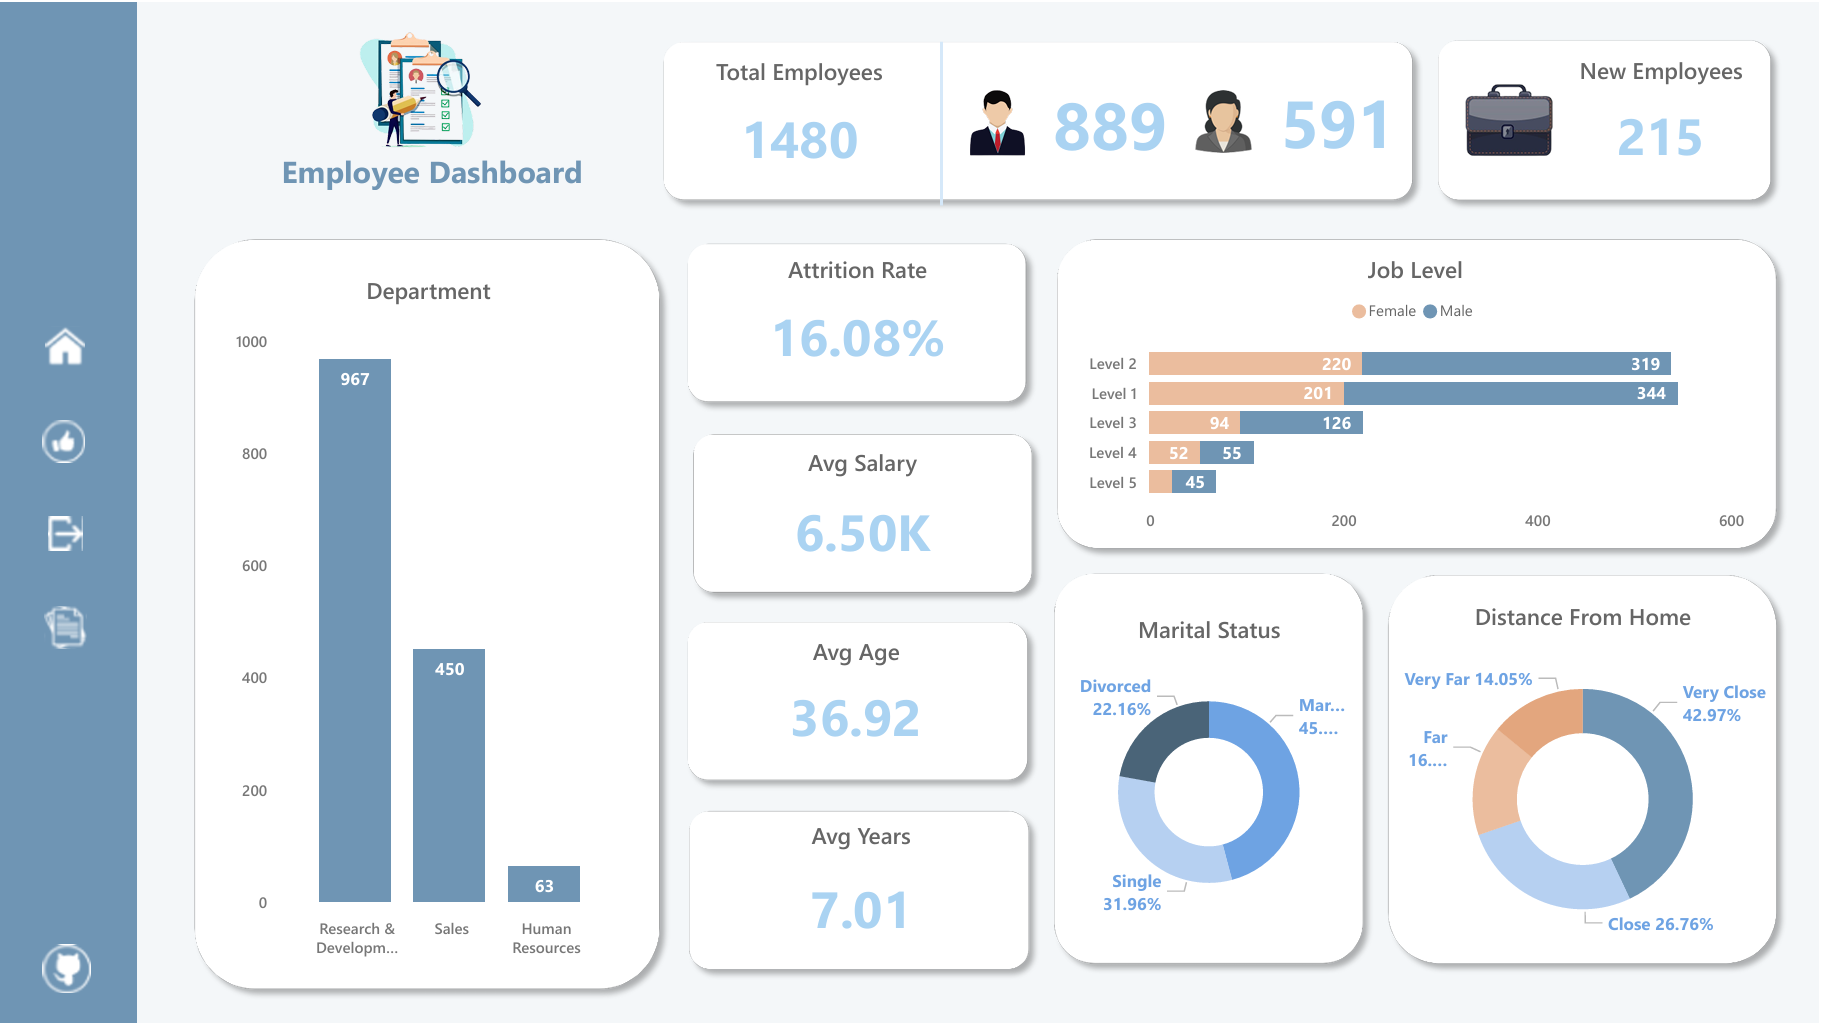

Layout of this report page (visuals, bound fields, positions):
{"tool":"powerbi","page":{"name":"Home","canvas":[1280,720],"ordinal":0},"visuals":[{"type":"shape","box":[968,394,291,291],"z":0},{"type":"shape","box":[476.2,560,256.2,128.8],"z":1000},{"type":"shape","box":[735,157.5,524.2,235.8],"z":2000},{"type":"shape","box":[458,19,545,129],"z":3000},{"type":"shape","box":[733.3,393.3,235,291.7],"z":4000},{"type":"card","title":"Total Employees","fields":{"Values":["All Measure.Total Emp"]},"box":[474,38,177,94],"z":5000},{"type":"card","fields":{"Values":["All Measure.Female"]},"box":[851,24,181,119],"z":6000},{"type":"card","fields":{"Values":["All Measure.Male"]},"box":[702,26,158,117],"z":7000},{"type":"image","box":[667,53,69,62],"z":8000},{"type":"shape","box":[474.9,160.7,256.6,129],"z":9000},{"type":"image","box":[831,57,59,54],"z":10000},{"type":"shape","box":[623,28,79,115],"z":11000},{"type":"shape","box":[1003,18,252,130],"z":12000},{"type":"card","title":"Attrition Rate","fields":{"Values":["All Measure.% attrition"]},"box":[487.1,177.1,232.9,94.3],"z":13000},{"type":"card","title":"New Employees","fields":{"Values":["All Measure.New Employee"]},"box":[1099,37,140,91],"z":14000},{"type":"shape","box":[0,0,95.7,720],"z":15000},{"type":"shape","box":[128.3,158.3,345,545],"z":16000},{"type":"columnChart","title":"Department","fields":{"Category":["HR_Analytics.Department"],"Y":["All Measure.Total Emp"]},"box":[160,191.7,283.3,488.3],"z":17000},{"type":"shape","box":[478.9,295.3,256.6,129],"z":18000},{"type":"shape","box":[475.2,427,256.6,129],"z":19000},{"type":"card","title":"Avg Salary","fields":{"Values":["Avg(HR_Analytics.MonthlyIncome)"]},"box":[496.2,312.5,221.2,96.2],"z":20000},{"type":"card","title":"Avg Age","fields":{"Values":["Avg(HR_Analytics.Age)"]},"box":[503,446.2,199,90.6],"z":21000},{"type":"donutChart","title":"Marital Status","fields":{"Category":["HR_Analytics.MaritalStatus"],"Y":["All Measure.Total Emp"]},"box":[745,430,211.7,229.2],"z":22000},{"type":"barChart","title":"Job Level","fields":{"Category":["HR_Analytics.Job Level Status"],"Y":["All Measure.Female","All Measure.Male"]},"box":[760,176.7,471.7,205],"z":23000},{"type":"card","title":"Avg Years","fields":{"Values":["Avg(HR_Analytics.YearsAtCompany)"]},"box":[503.8,575,203.8,102.5],"z":24000},{"type":"donutChart","title":"Distance From Home","fields":{"Category":["HR_Analytics.Distance Status"],"Y":["All Measure.Total Emp"]},"box":[977,421,274,257],"z":25000},{"type":"image","box":[1006,44,112,78],"z":26000},{"type":"textbox","title":"Employee Dashboard","box":[188.6,104.3,230,37.1],"z":27000},{"type":"image","box":[233,0,123,125],"z":28000},{"type":"actionButton","box":[27.8,224.4,43.3,35.6],"z":29000},{"type":"actionButton","box":[30,355,31.7,38.3],"z":30000},{"type":"actionButton","box":[25.6,290,43.3,37.8],"z":31000},{"type":"actionButton","box":[26.7,421.1,44.4,37.8],"z":32000},{"type":"actionButton","box":[25.7,658.6,48.6,42.9],"z":33001}]}

Visuals, with their boxes on the page's 1280x720 design canvas (x1, y1, x2, y2). These are canvas units, not pixel positions in the 1824x1023 screenshot, which may show the page scaled, cropped or inside an application window:
shape: <bbox>968, 394, 1259, 685</bbox>
shape: <bbox>476, 560, 732, 689</bbox>
shape: <bbox>735, 158, 1259, 393</bbox>
shape: <bbox>458, 19, 1003, 148</bbox>
shape: <bbox>733, 393, 968, 685</bbox>
"Total Employees" card: <bbox>474, 38, 651, 132</bbox>
card - All Measure.Female: <bbox>851, 24, 1032, 143</bbox>
card - All Measure.Male: <bbox>702, 26, 860, 143</bbox>
image: <bbox>667, 53, 736, 115</bbox>
shape: <bbox>475, 161, 732, 290</bbox>
image: <bbox>831, 57, 890, 111</bbox>
shape: <bbox>623, 28, 702, 143</bbox>
shape: <bbox>1003, 18, 1255, 148</bbox>
"Attrition Rate" card: <bbox>487, 177, 720, 271</bbox>
"New Employees" card: <bbox>1099, 37, 1239, 128</bbox>
shape: <bbox>0, 0, 96, 720</bbox>
shape: <bbox>128, 158, 473, 703</bbox>
"Department" columnChart: <bbox>160, 192, 443, 680</bbox>
shape: <bbox>479, 295, 736, 424</bbox>
shape: <bbox>475, 427, 732, 556</bbox>
"Avg Salary" card: <bbox>496, 312, 717, 409</bbox>
"Avg Age" card: <bbox>503, 446, 702, 537</bbox>
"Marital Status" donutChart: <bbox>745, 430, 957, 659</bbox>
"Job Level" barChart: <bbox>760, 177, 1232, 382</bbox>
"Avg Years" card: <bbox>504, 575, 708, 678</bbox>
"Distance From Home" donutChart: <bbox>977, 421, 1251, 678</bbox>
image: <bbox>1006, 44, 1118, 122</bbox>
"Employee Dashboard" textbox: <bbox>189, 104, 419, 141</bbox>
image: <bbox>233, 0, 356, 125</bbox>
actionButton: <bbox>28, 224, 71, 260</bbox>
actionButton: <bbox>30, 355, 62, 393</bbox>
actionButton: <bbox>26, 290, 69, 328</bbox>
actionButton: <bbox>27, 421, 71, 459</bbox>
actionButton: <bbox>26, 659, 74, 702</bbox>
